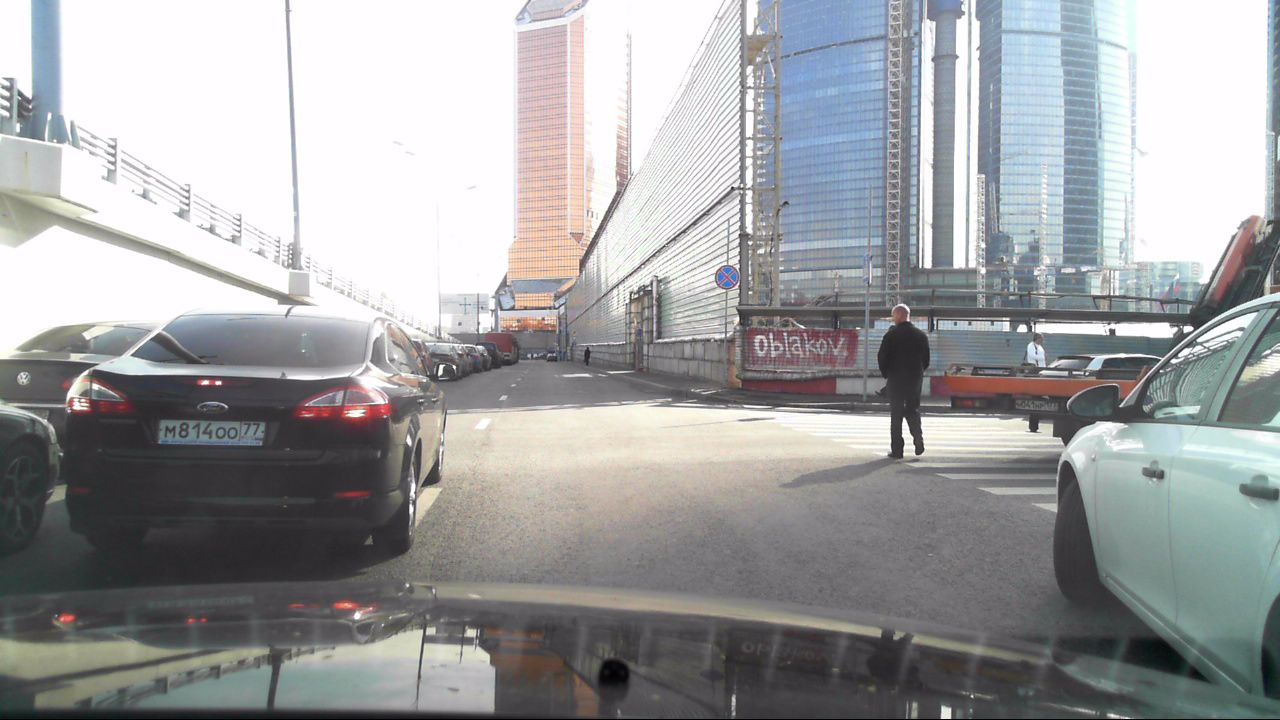No Parking: (714, 263, 739, 289)
